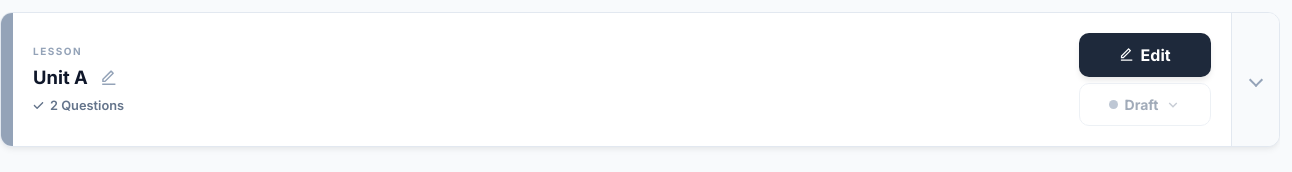
Test: ModuleUnitCard › Title editing › enters edit mode when clicking edit icon
Step 1. Click the button named "Edit title" → (108, 77), box [96,65,121,90]
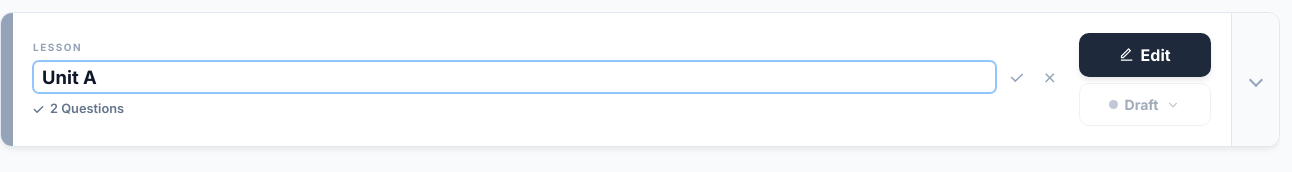
Check: the field showing "Unit A" is shown, box [33,61,996,94]
Check: the button named "Save title" is shown, box [1004,65,1029,90]
Check: the button named "Cancel editing" is shown, box [1037,65,1063,90]
